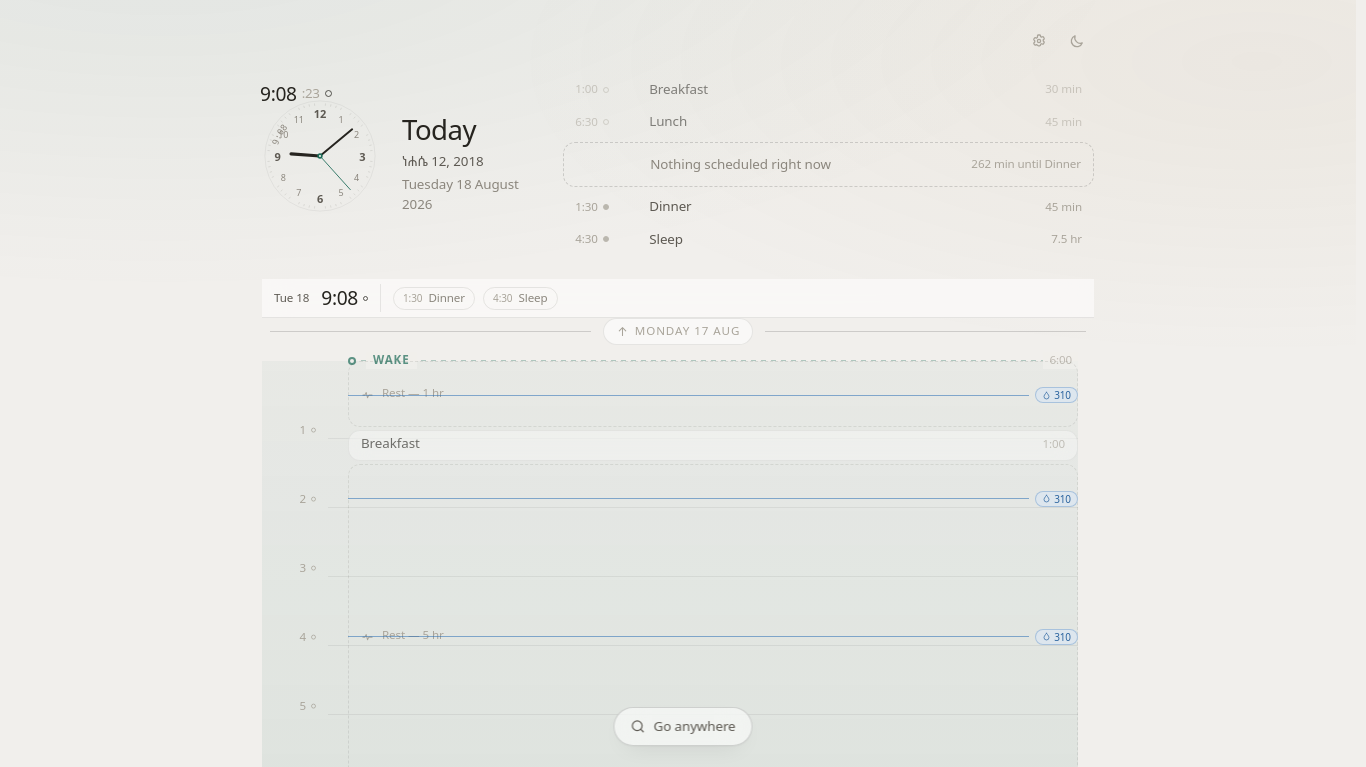
Test: the day header follows the timeline › marks today and the day being looked at
This screenshot has width=1366, height=767.
Click the button with class "dh-title".
click(450, 129)  # box [402,109,497,149]
(page scrolled)
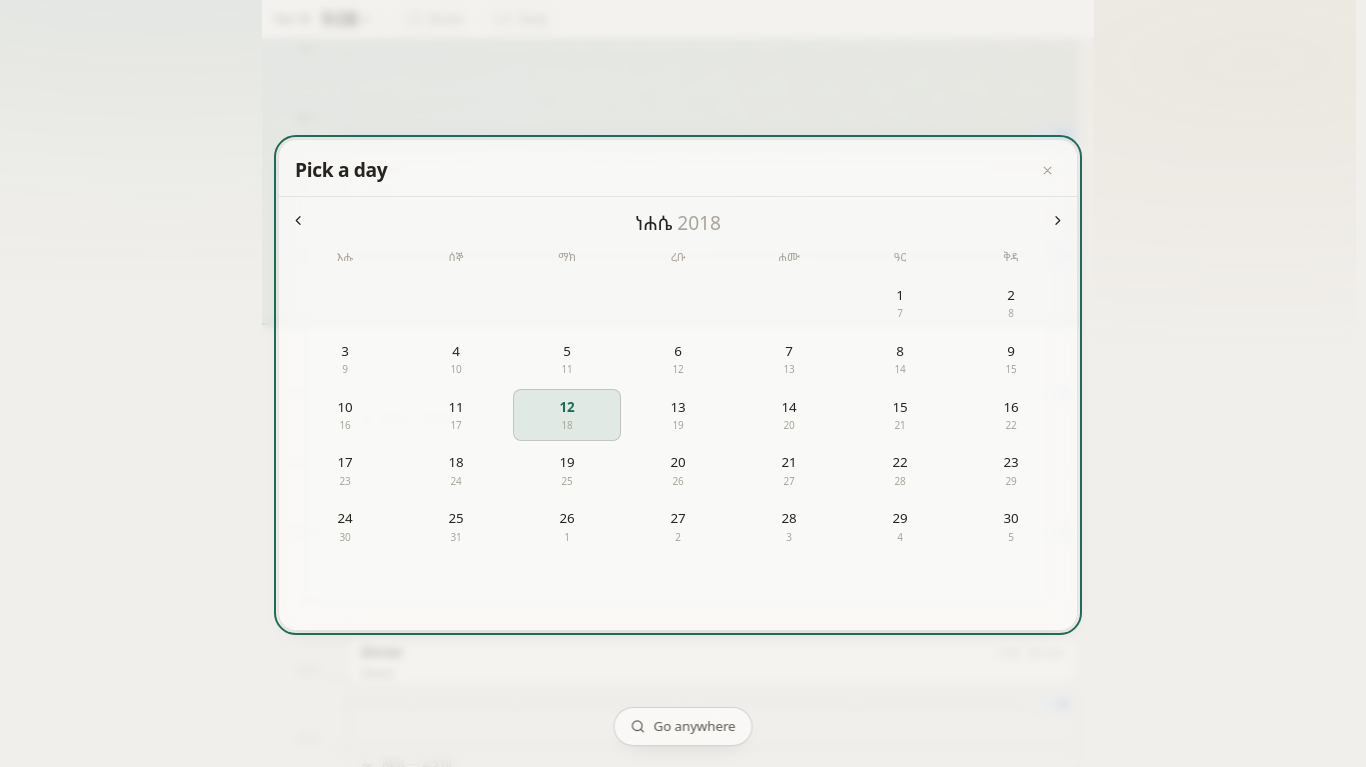
expect the button with class "today" is shown: met, box [513,389,621,442]
